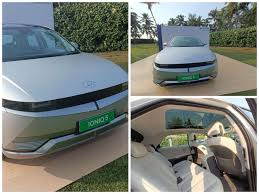Honda Ioniq: (3, 20, 127, 177), (147, 22, 223, 87)
